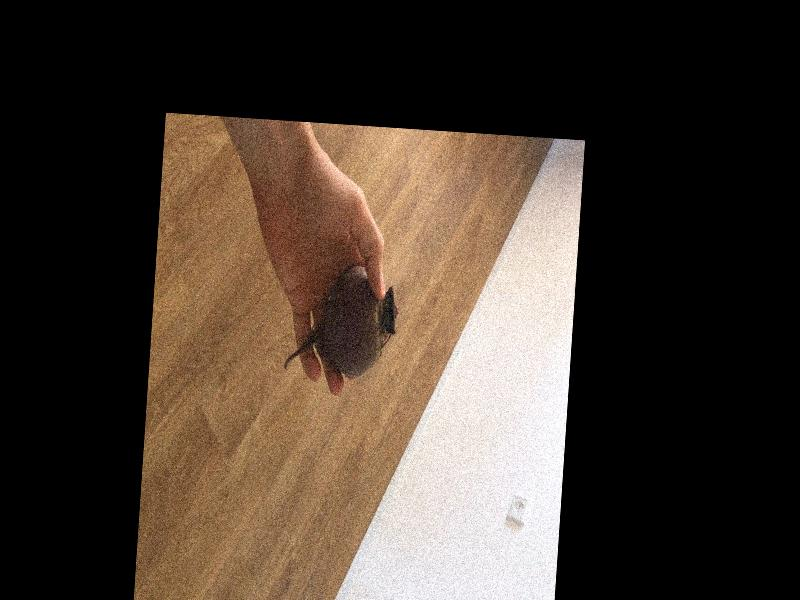Beet: (283, 261, 398, 382)
